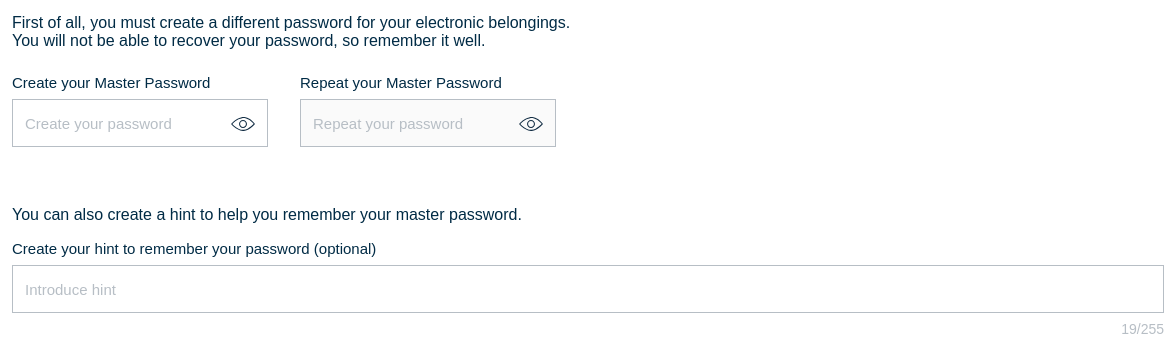
Test: Given a Form view › When createPassword input is less than 8 characters › Then it should show' Minimum 8 characters' error text
Type "123456" into the password field with test id "createPassword".
click(140, 123); type("123456")  # box [12,99,268,147]
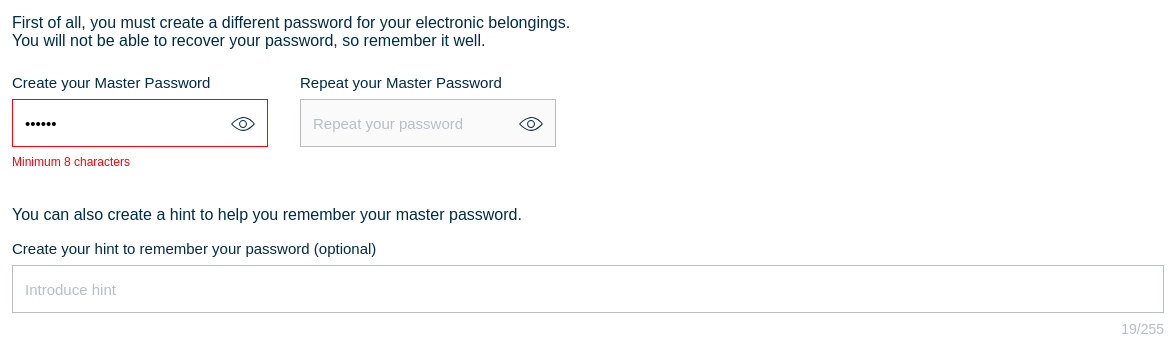
Check: the text "Minimum 8 characters" is shown, box [12,155,130,169]
